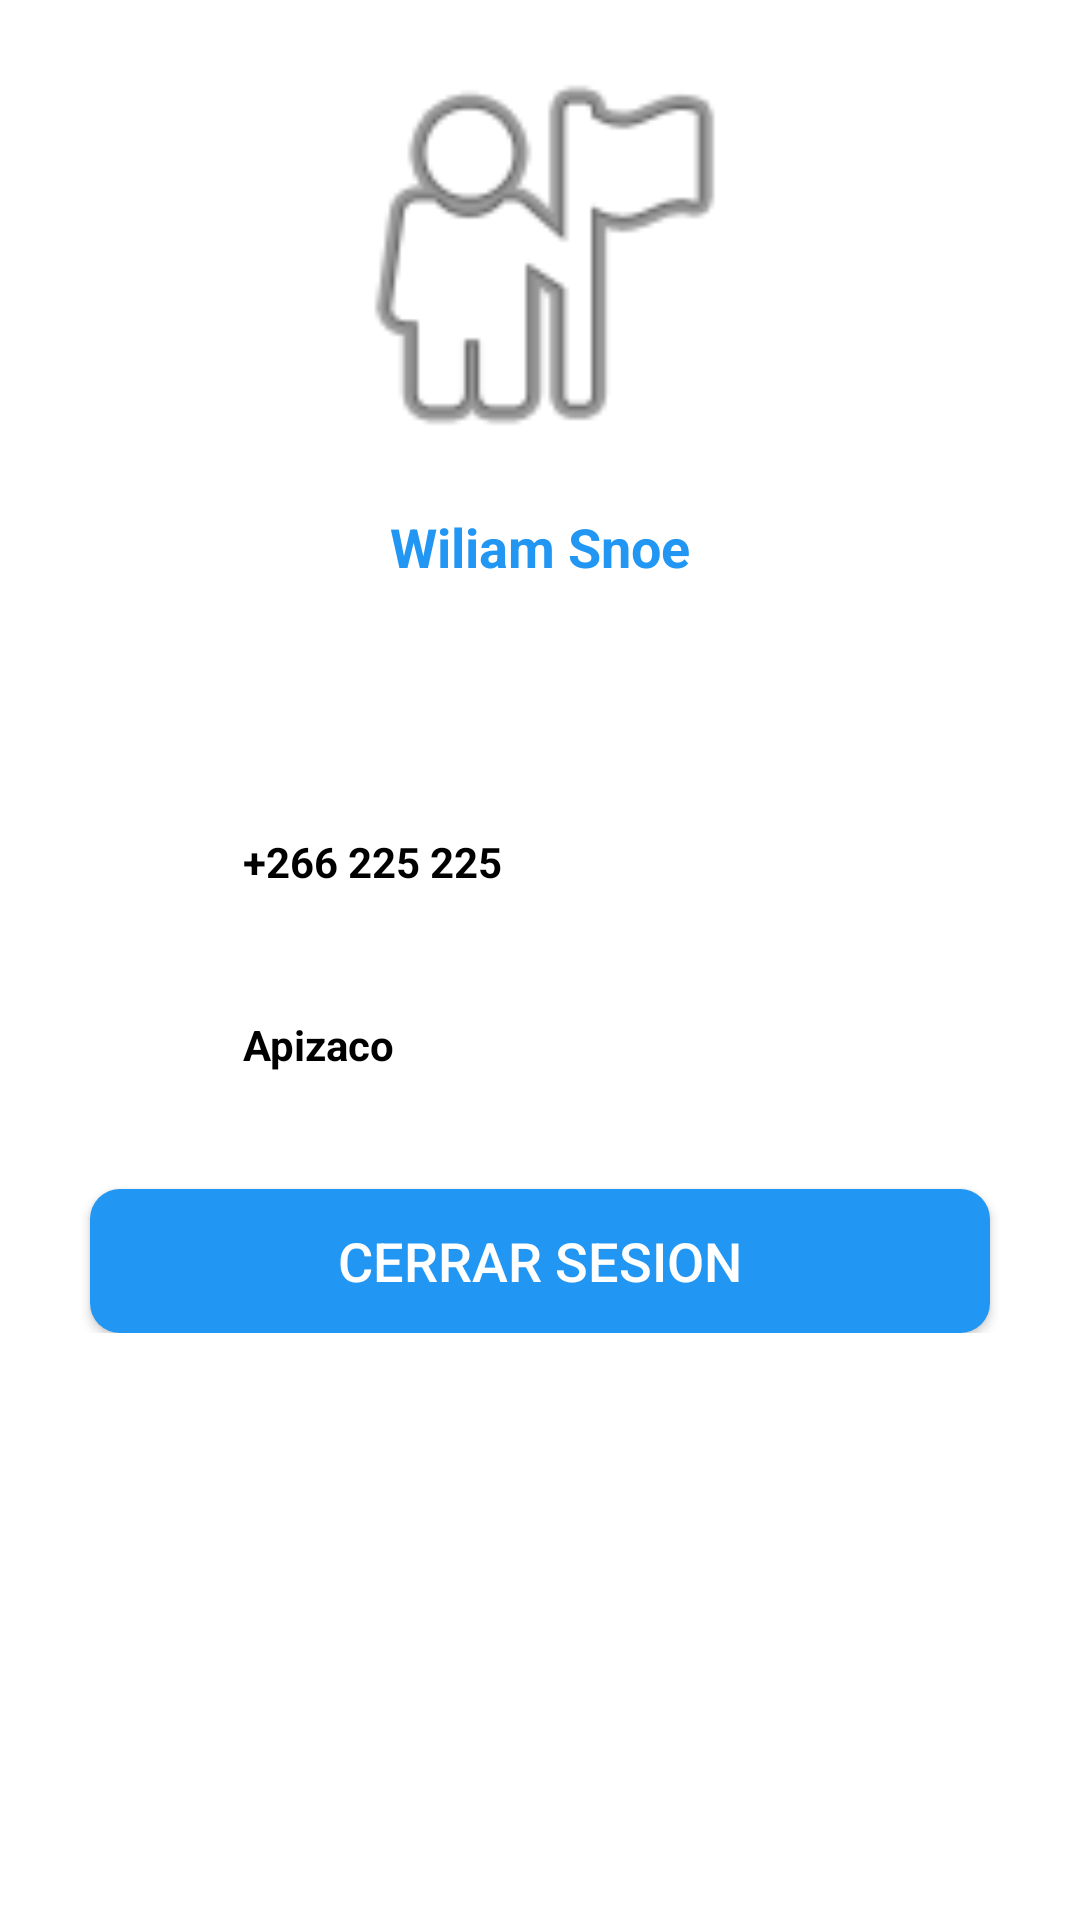

Where to tap for icons on this 1080px×1920px app screen, as point (x, y):
myplaces: point (544, 255)
